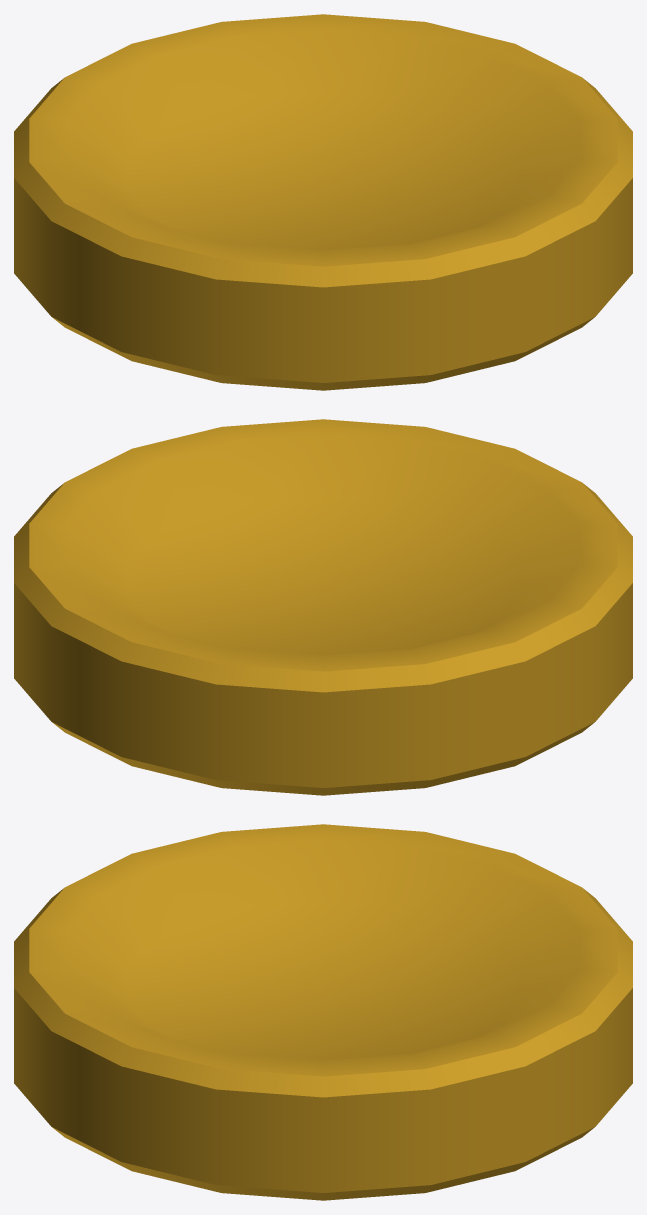
The model's file is 炸裂效果1金币.FBX.
3 views of the same model, one above another, from view 1: azimuth 30°, elevation 25°; view 2: azimuth 150°, elevation 25°; view 3: azimuth 270°, elevation 25° (orthographic).
Visible parts, largest first — view 1: Cylinder001; view 2: Cylinder001; view 3: Cylinder001.
Part boxes in pixels (box(x1,y1,x2,y2)): Cylinder001: box(14, 14, 632, 390); Cylinder001: box(14, 419, 632, 795); Cylinder001: box(14, 824, 632, 1200).
Bounding box in the file's own units: 21.23 × 4.62 × 20.9.
